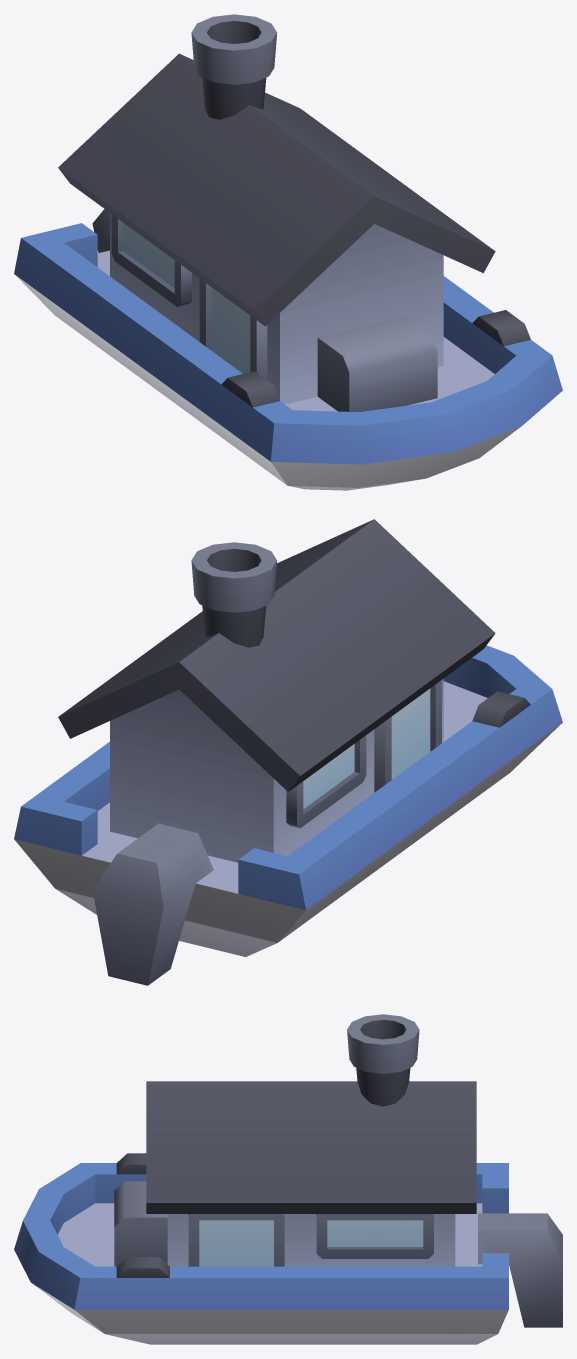
File: boat-house-c-transformed-transformed.glb
3 views of the same model, one above another, from view 1: azimuth 30°, elevation 25°; view 2: azimuth 150°, elevation 25°; view 3: azimuth 270°, elevation 25° (orthographic). The views are drawn at different scales.
Parts seen in each view (by area): view 1: boat-house-c; view 2: boat-house-c; view 3: boat-house-c.
Boxes of the visible parts, left/top/right/bottom form: boat-house-c: left=14, top=14, right=562, bottom=490; boat-house-c: left=14, top=519, right=562, bottom=985; boat-house-c: left=14, top=1014, right=562, bottom=1344.
Bounding box in the file's own units: 2.68 × 3 × 5.15.
Materials: 1 (1 with a texture image).
